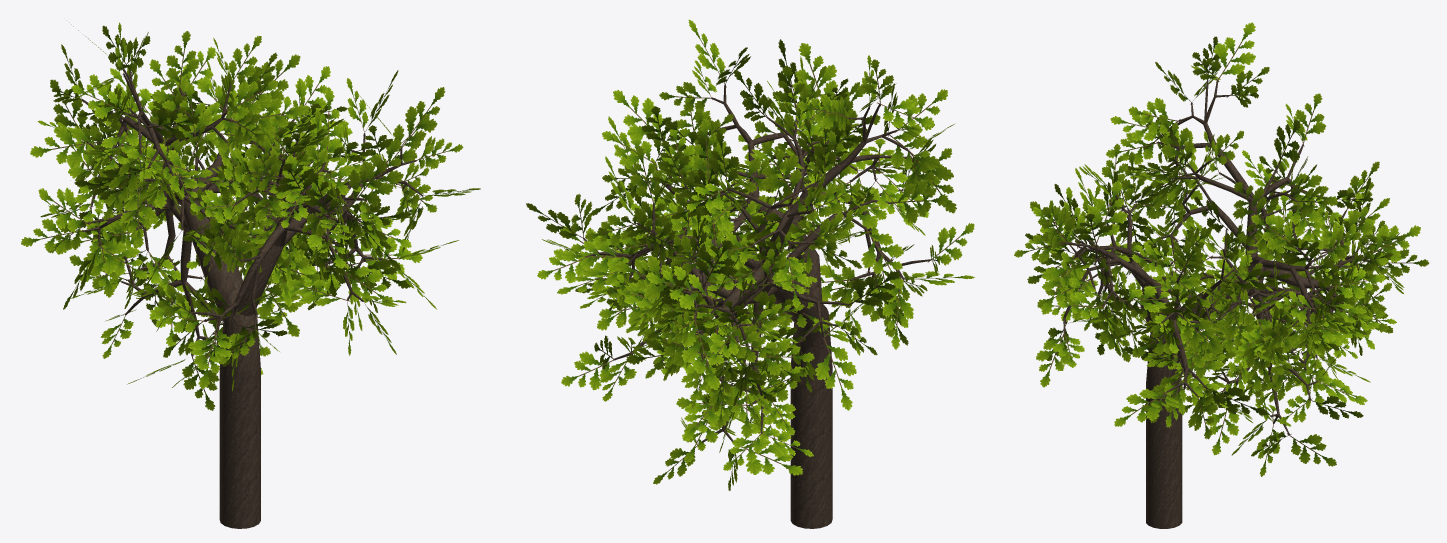
File: tree_oak.glb
The picture shows the model from 3 angles, left to right: view 1: azimuth 30°, elevation 25°; view 2: azimuth 150°, elevation 25°; view 3: azimuth 270°, elevation 25°; orthographic projection. The views are drawn at different scales.
Parts seen in each view (by area): view 1: Trunk, Leaf#160, Trunk#9, Leaf#380, Leaf#342, Leaf#390, Leaf#167, Leaf#111, Leaf#109, Trunk.Stump, Leaf#75, Leaf#97 (+38 smaller); view 2: Trunk, Leaf#110, Leaf#219, Leaf#96, Leaf#123, Leaf#196, Leaf#335, Leaf#359, Leaf#267, Leaf#221, Leaf#3, Leaf#103 (+51 smaller); view 3: Trunk, Leaf#147, Leaf#389, Leaf#222, Leaf#381, Leaf#169, Leaf#351, Leaf#340, Leaf#2, Leaf#272, Leaf#144, Leaf#114 (+24 smaller).
Boxes of the visible parts, <box> form: Trunk: <box>180,198,260,509</box>; Leaf#160: <box>30,126,102,168</box>; Trunk#9: <box>237,245,283,315</box>; Leaf#380: <box>360,139,403,201</box>; Leaf#342: <box>346,160,386,213</box>; Leaf#390: <box>399,87,445,148</box>; Leaf#167: <box>230,93,307,137</box>; Leaf#111: <box>38,187,89,232</box>; Leaf#109: <box>97,242,148,279</box>; Trunk.Stump: <box>219,502,260,528</box>; Leaf#75: <box>257,285,299,336</box>; Leaf#97: <box>174,82,212,146</box>; Trunk: <box>762,269,832,509</box>; Leaf#110: <box>815,338,856,410</box>; Leaf#219: <box>681,316,726,390</box>; Leaf#96: <box>861,226,903,289</box>; Leaf#123: <box>761,142,802,200</box>; Leaf#196: <box>646,266,716,309</box>; Leaf#335: <box>792,43,837,113</box>; Leaf#359: <box>613,90,663,141</box>; Leaf#267: <box>561,235,625,277</box>; Leaf#221: <box>615,255,685,301</box>; Leaf#3: <box>741,437,802,475</box>; Leaf#103: <box>891,179,948,223</box>; Trunk: <box>1146,266,1250,512</box>; Leaf#147: <box>1213,22,1255,82</box>; Leaf#389: <box>1086,180,1127,245</box>; Leaf#222: <box>1363,224,1420,265</box>; Leaf#381: <box>1041,251,1083,314</box>; Leaf#169: <box>1158,114,1194,168</box>; Leaf#351: <box>1114,388,1169,426</box>; Leaf#340: <box>1036,330,1072,387</box>; Leaf#2: <box>1287,433,1336,466</box>; Leaf#272: <box>1251,214,1297,250</box>; Leaf#144: <box>1128,98,1181,134</box>; Leaf#114: <box>1232,181,1266,218</box>.
Size of the model in its own units: 10.29 by 13.37 by 11.36.
3 materials, 3 textured.
